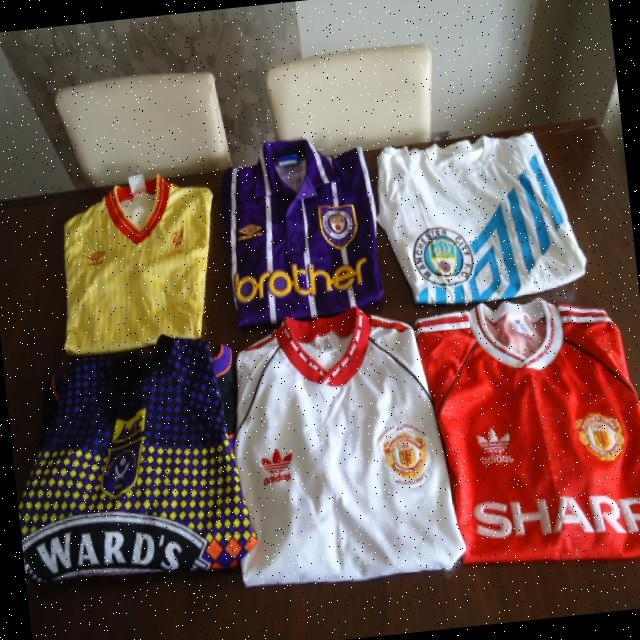Adidas: (258, 447, 298, 491), (474, 426, 516, 467)
